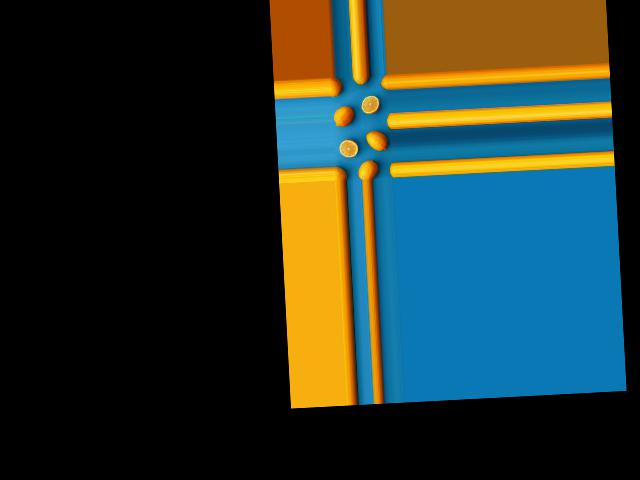lemon: (335, 164, 349, 182)
